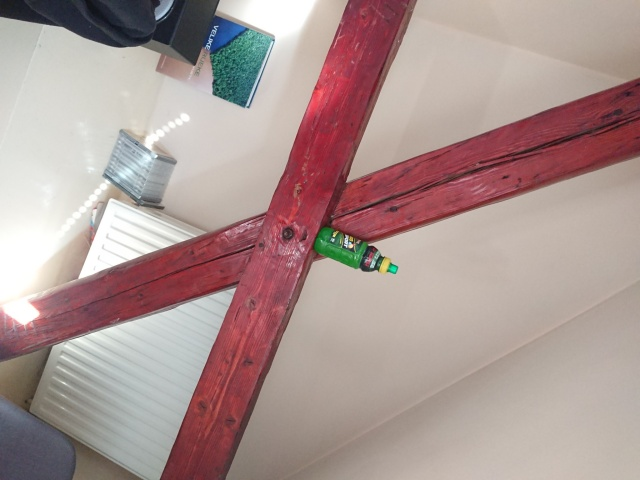Vindi Iso Sport Lemon-Grapefruit 500mL: (312, 225, 400, 276)
